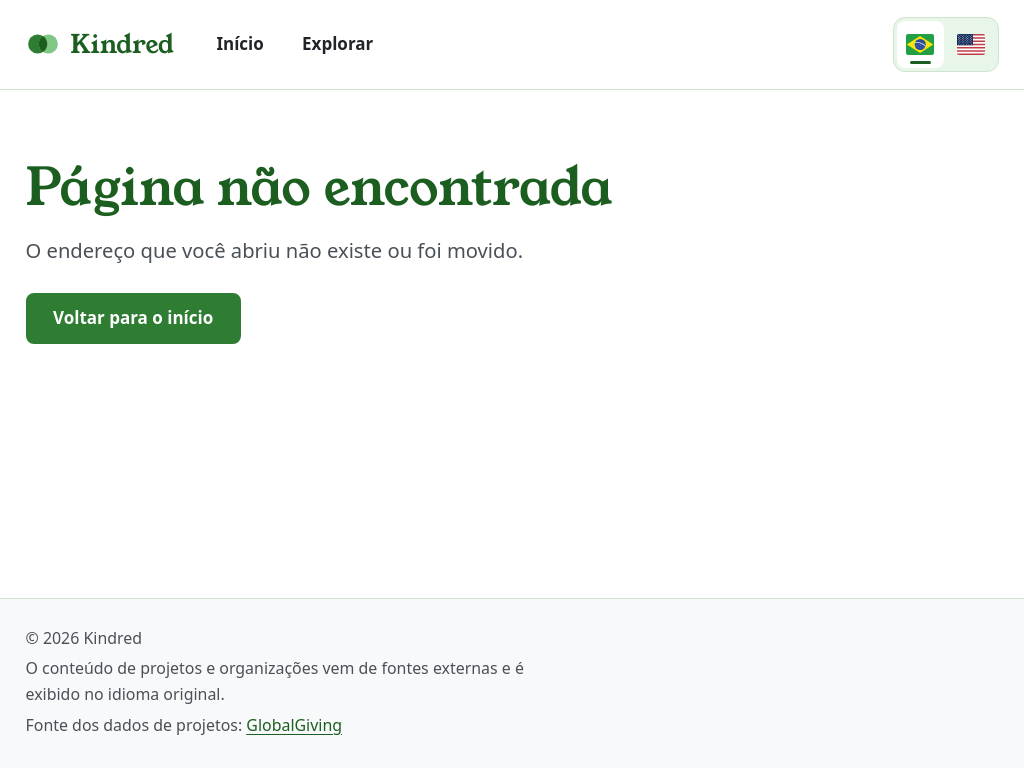
seletor de idioma › traduz também a página 404 e os estados partilhados
Click the button named "Inglês (Estados Unidos)" at (971, 44), box [948,21,995,68]
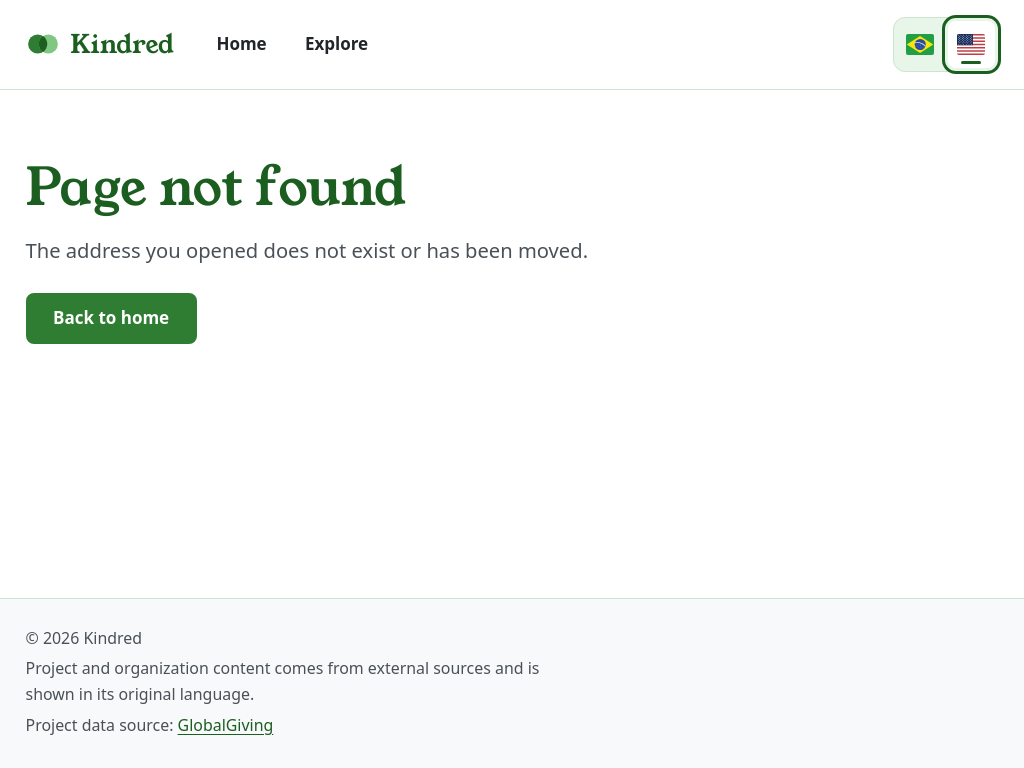
Check: the heading "Page not found" is shown, box [26,151,406,224]
Check: the link "Back to home" is shown, box [26,293,197,344]
